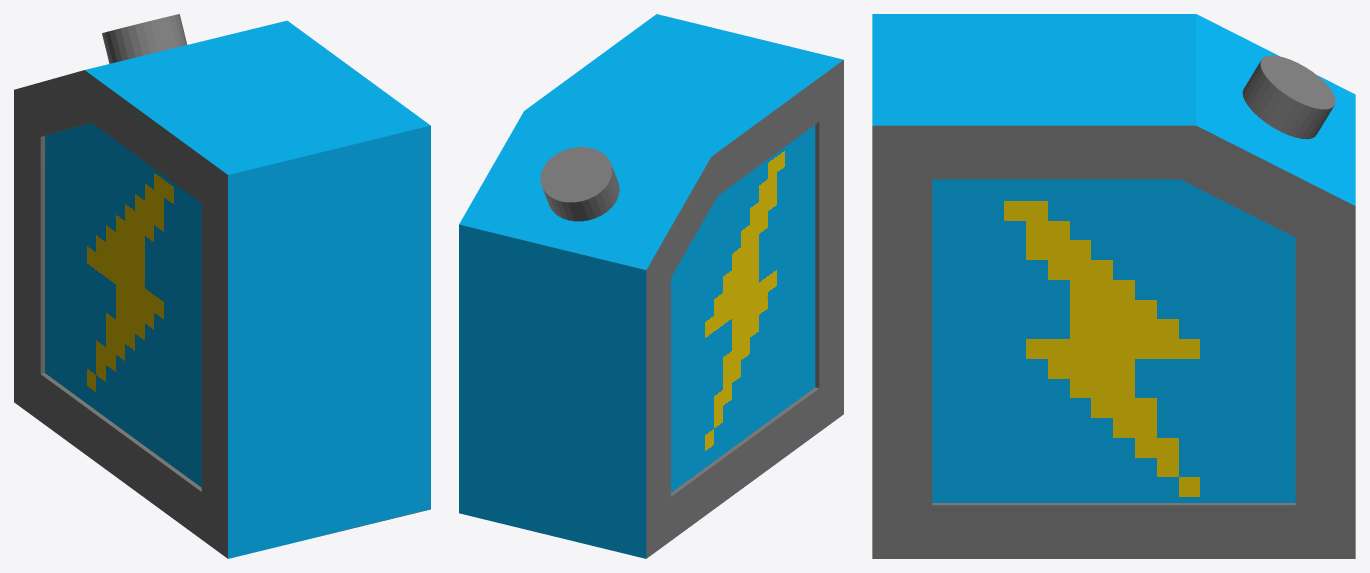
File: Nitro.fbx
The picture shows the model from 3 angles, left to right: view 1: azimuth 30°, elevation 25°; view 2: azimuth 150°, elevation 25°; view 3: azimuth 270°, elevation 25°; orthographic projection. The views are drawn at different scales.
Parts seen in each view (by area): view 1: Nitro; view 2: Nitro; view 3: Nitro.
Part boxes in pixels (<box>): Nitro: <box>14,14,430,558</box>; Nitro: <box>459,14,843,558</box>; Nitro: <box>872,14,1355,558</box>.
Bounding box in the file's own units: 88.06 × 162 × 161.
